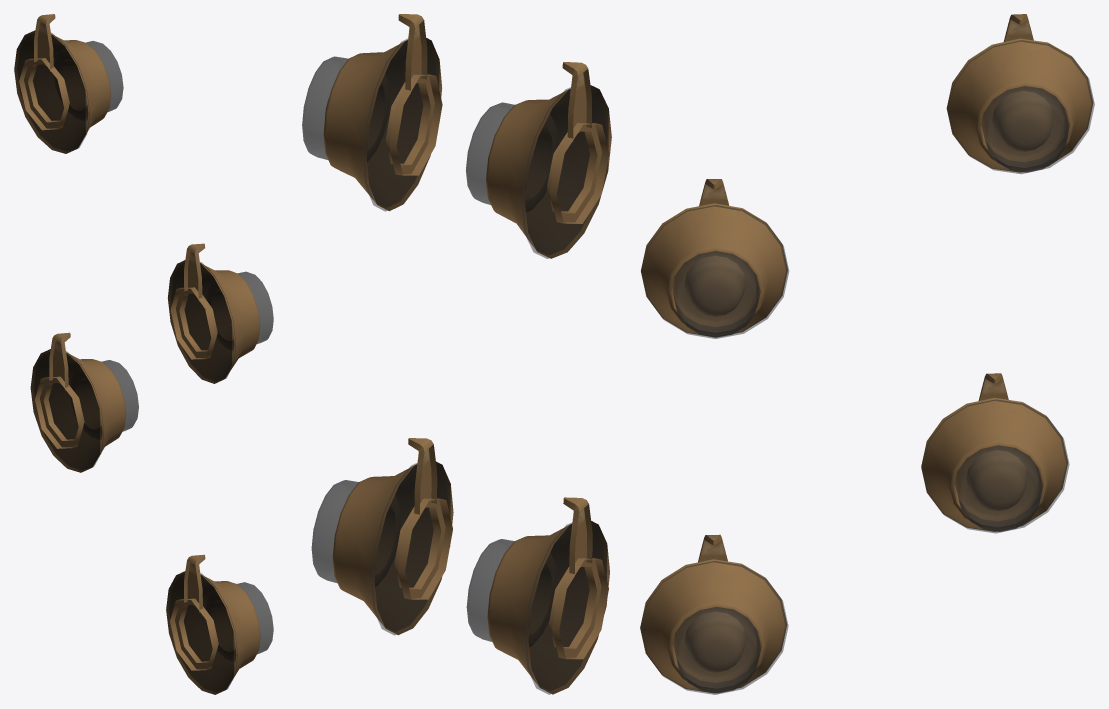
Rendered from gibson_lespaul_GoldTH.min.glb.
The picture shows the model from 3 angles, left to right: view 1: azimuth 30°, elevation 25°; view 2: azimuth 150°, elevation 25°; view 3: azimuth 270°, elevation 25°; orthographic projection. The views are drawn at different scales.
Size of the model in its own units: 0.0846 by 0.5402 by 0.3341.
12 materials, 4 textured.
